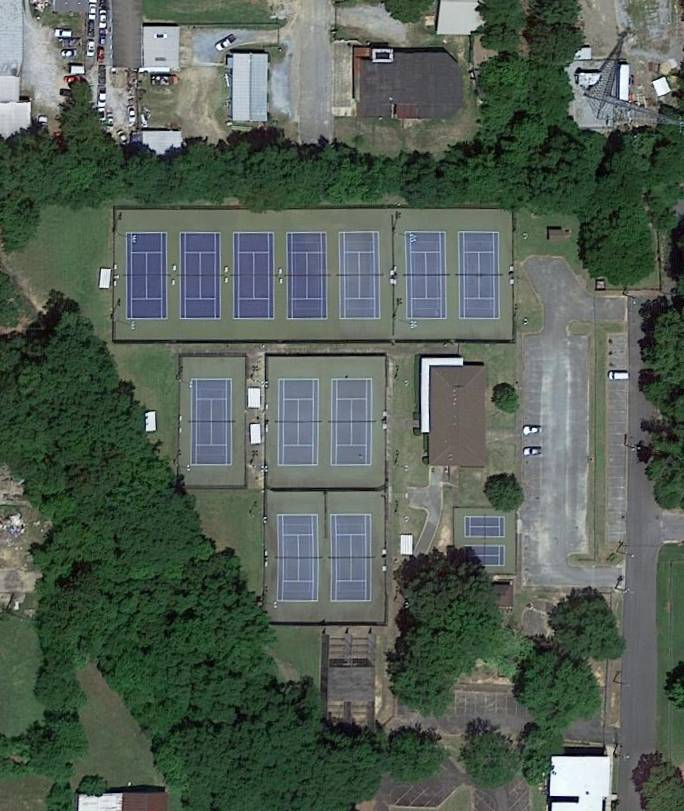tennis court: (457, 229, 502, 321), (189, 376, 234, 467), (404, 231, 450, 320), (124, 232, 170, 321), (285, 231, 330, 321), (179, 231, 224, 321), (277, 378, 322, 467), (276, 513, 321, 601), (330, 378, 374, 466), (330, 513, 373, 603), (339, 230, 382, 320), (233, 231, 276, 320), (464, 516, 506, 539), (464, 545, 507, 567)
